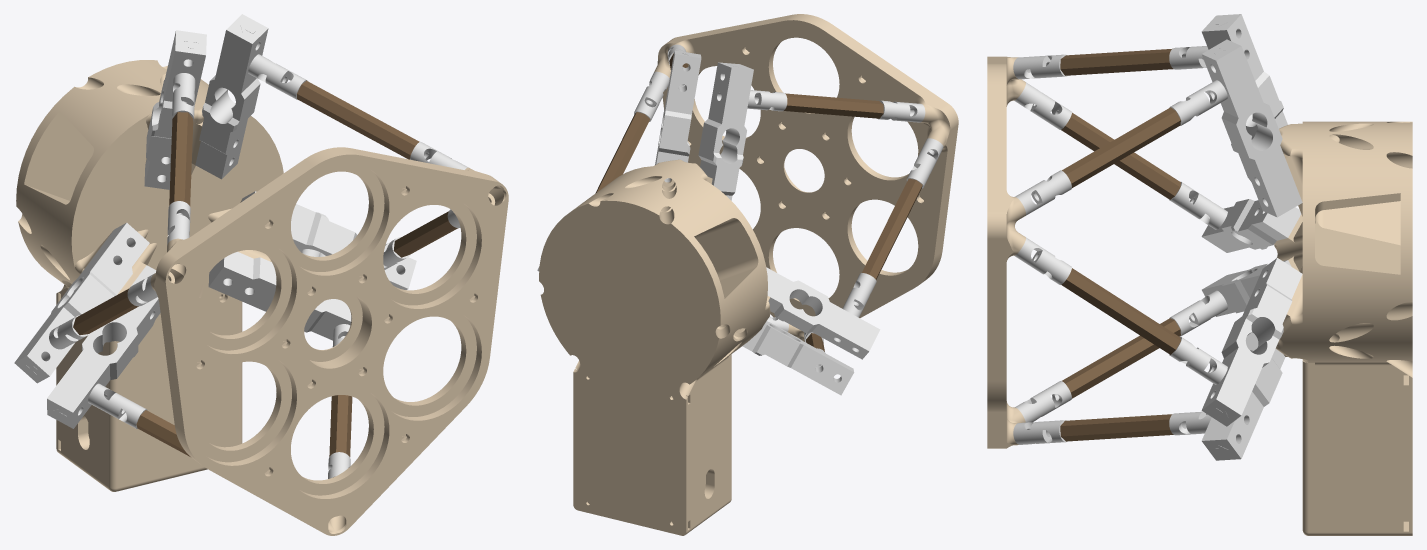
File: platform.gltf
3 views of the same model, side by side, from view 1: azimuth 30°, elevation 25°; view 2: azimuth 150°, elevation 25°; view 3: azimuth 270°, elevation 25° (orthographic). The views are drawn at different scales.
Visible parts, largest first — view 1: Top, Base, Controller Lid, LC2, LC4, LC5, Part 1 (×6), LC0, LC3, LC1, Part 25, Part 28 (+5 smaller); view 2: Base, Top, LC3, LC4, Part 1 (×5), LC2, LC5, Part 31, Part 28, Part 22, Controller Lid; view 3: Base, Part 1 (×10), Top, LC2, LC1, LC0, LC4, Part 22, Part 25, LC3, Coupler (×2), Part 19 (+5 smaller).
Boxes of the visible parts, x1,y1,x2,y2 form: Top: [150, 147, 508, 535]; Base: [16, 60, 283, 487]; Controller Lid: [105, 292, 242, 491]; LC2: [195, 14, 268, 179]; LC4: [14, 222, 149, 383]; LC5: [47, 265, 160, 428]; Part 1 (×6): [49, 54, 468, 349]; LC0: [208, 251, 351, 340]; LC3: [144, 30, 206, 189]; LC1: [241, 191, 416, 289]; Part 25: [297, 80, 419, 159]; Part 28: [169, 112, 193, 205]; Base: [539, 159, 770, 535]; Top: [654, 14, 958, 341]; LC3: [698, 62, 753, 200]; LC4: [766, 267, 880, 359]; Part 1 (×5): [634, 71, 943, 317]; LC2: [655, 50, 701, 182]; LC5: [742, 321, 854, 395]; Part 31: [862, 178, 922, 279]; Part 28: [784, 93, 883, 118]; Part 22: [595, 112, 650, 193]; Controller Lid: [728, 354, 731, 503]; Base: [1274, 121, 1412, 535]; Part 1 (×10): [1013, 46, 1227, 444]; Top: [987, 56, 1025, 448]; LC2: [1201, 39, 1302, 217]; LC1: [1201, 257, 1302, 426]; LC0: [1201, 332, 1285, 460]; LC4: [1201, 199, 1301, 252]; Part 22: [1061, 268, 1180, 354]; Part 25: [1062, 107, 1180, 187]; LC3: [1201, 14, 1287, 139]; Coupler (×2): [1015, 290, 1227, 422]; Part 19: [1060, 414, 1173, 441].
Size of the model in its own units: 0.1826 by 0.2146 by 0.174.
